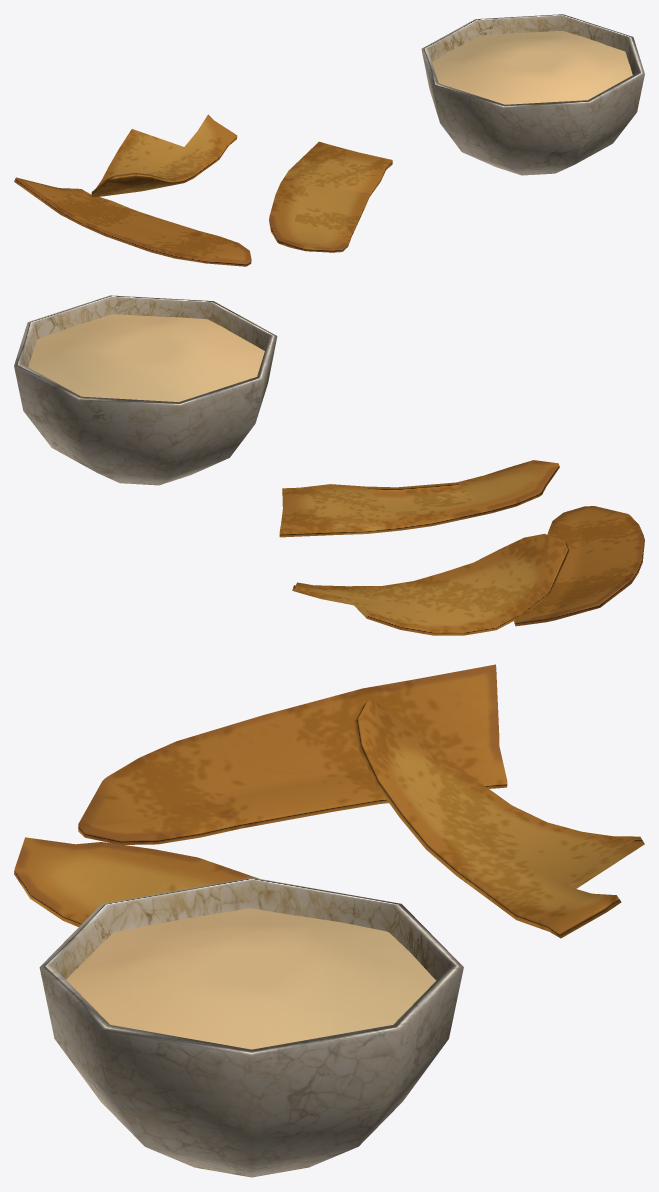
The model's file is arracacha7.glb.
3 renders of one model, top to bottom at view 1: azimuth 30°, elevation 25°; view 2: azimuth 150°, elevation 25°; view 3: azimuth 270°, elevation 25°, orthographic. The views are drawn at different scales.
Parts seen in each view (by area): view 1: pDisc3, polySurface22; view 2: pDisc3, polySurface22; view 3: pDisc3, polySurface22.
Boxes of the visible parts, x1,y1,x2,y2 form: pDisc3: (421, 14, 644, 175); polySurface22: (14, 114, 392, 266); pDisc3: (14, 295, 277, 485); polySurface22: (279, 460, 644, 635); pDisc3: (39, 877, 463, 1177); polySurface22: (14, 664, 644, 938).
Bounding box in the file's own units: 1.91 × 0.3249 × 1.03.
3 materials, 3 textured.
